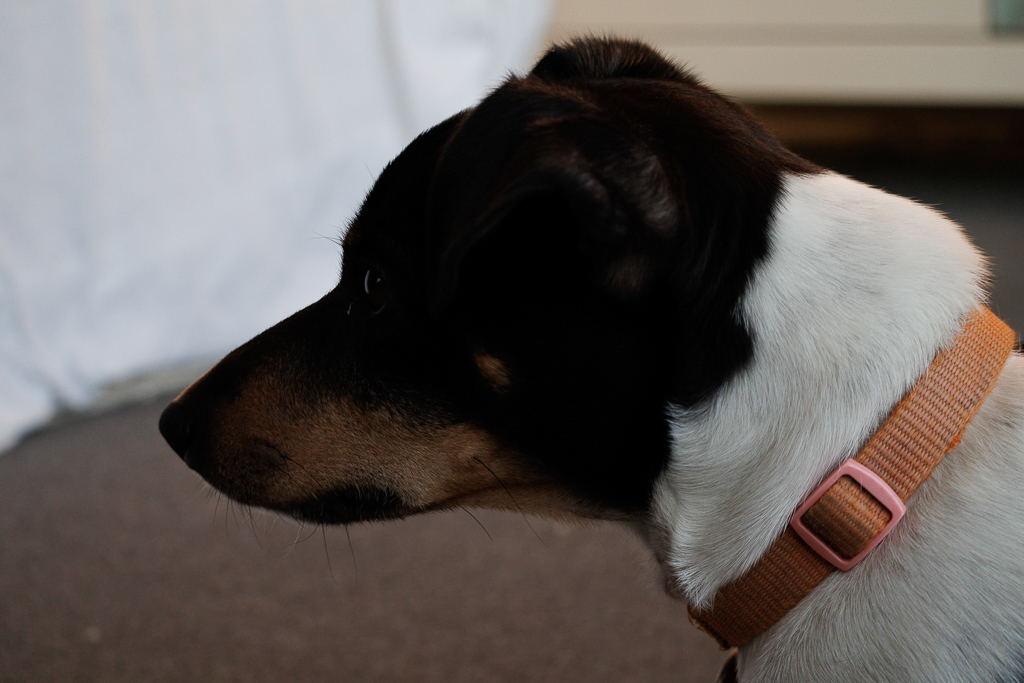Dog: (148, 28, 1023, 682)
